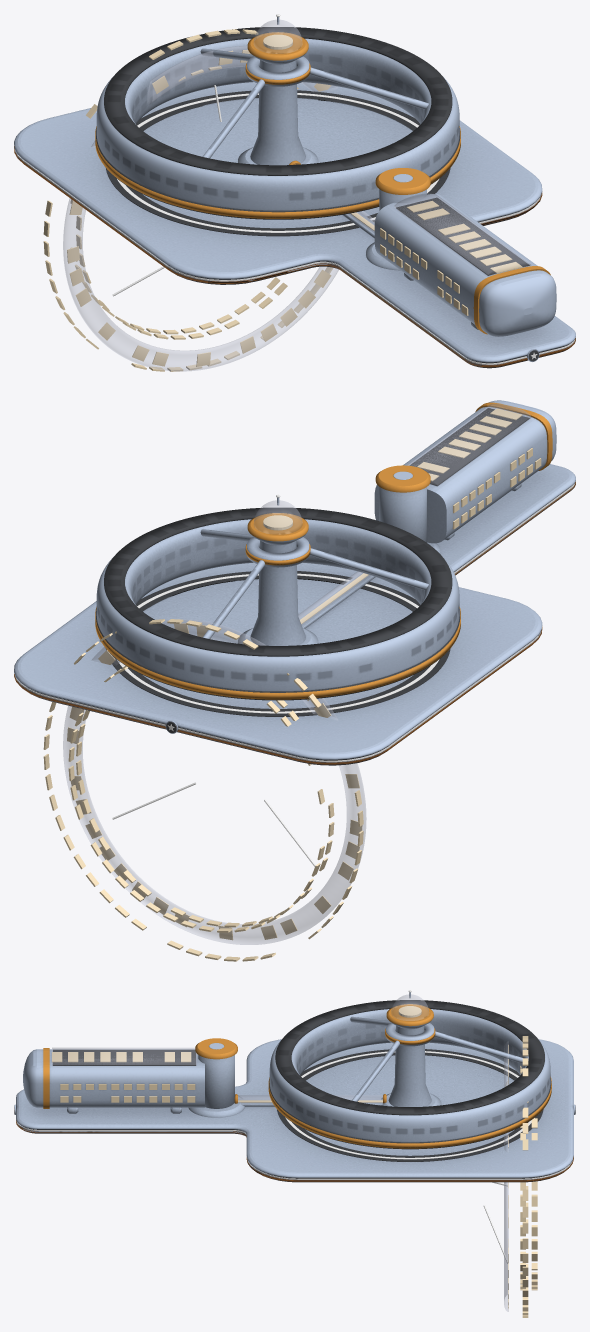
File: SM_Evo_GravityHabitat.fbx
The picture shows the model from 3 angles, top to bottom: view 1: azimuth 30°, elevation 25°; view 2: azimuth 150°, elevation 25°; view 3: azimuth 270°, elevation 25°; orthographic projection. The views are drawn at different scales.
Visible parts, largest first — view 1: SMN_Evo_GravityHabitat, SpinDish_GravityRing, Fx_GravityRing.008, Emblem_Fx_GravityHabitat; view 2: SMN_Evo_GravityHabitat, SpinDish_GravityRing, Fx_GravityRing.008, Emblem_Fx_GravityHabitat; view 3: SMN_Evo_GravityHabitat, SpinDish_GravityRing, Emblem_Fx_GravityHabitat, Fx_GravityRing.008.
Boxes of the visible parts, x1,y1,x2,y2 form: SMN_Evo_GravityHabitat: (14,17,575,368); SpinDish_GravityRing: (95,27,460,219); Fx_GravityRing.008: (43,29,338,371); Emblem_Fx_GravityHabitat: (15,14,575,364); SMN_Evo_GravityHabitat: (14,400,575,765); SpinDish_GravityRing: (95,507,460,700); Fx_GravityRing.008: (43,619,366,961); Emblem_Fx_GravityHabitat: (14,404,575,762); SMN_Evo_GravityHabitat: (14,992,575,1182); SpinDish_GravityRing: (268,1000,551,1149); Emblem_Fx_GravityHabitat: (14,990,575,1179); Fx_GravityRing.008: (483,1036,537,1317).
Size of the model in its own units: 2.84 by 3.01 by 4.88.
